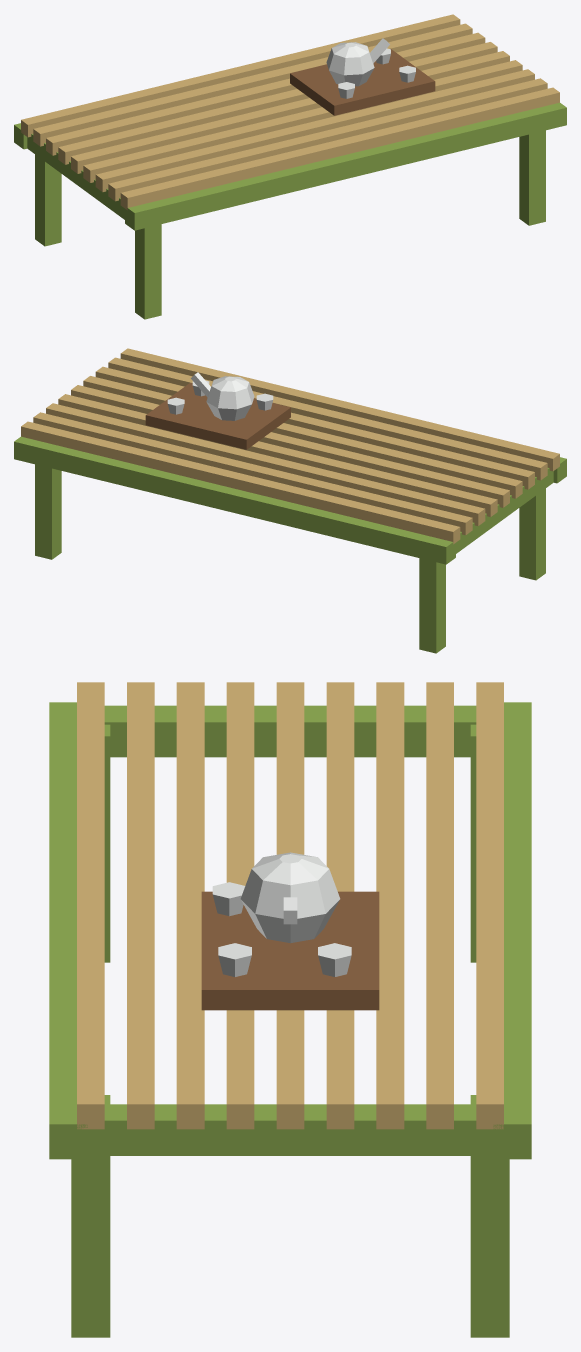
The model's file is viet_bamboo_daybed.glb.
The picture shows the model from 3 angles, top to bottom: view 1: azimuth 30°, elevation 25°; view 2: azimuth 150°, elevation 25°; view 3: azimuth 270°, elevation 25°; orthographic projection. The views are drawn at different scales.
Visible parts, largest first — view 1: viet_bamboo_daybed; view 2: viet_bamboo_daybed; view 3: viet_bamboo_daybed.
Boxes of the visible parts, box(x1,y1,x2,y2) form: viet_bamboo_daybed: box(14, 14, 566, 319); viet_bamboo_daybed: box(14, 348, 566, 653); viet_bamboo_daybed: box(49, 682, 531, 1337).
Size of the model in its own units: 1 by 0.3778 by 0.4833.
